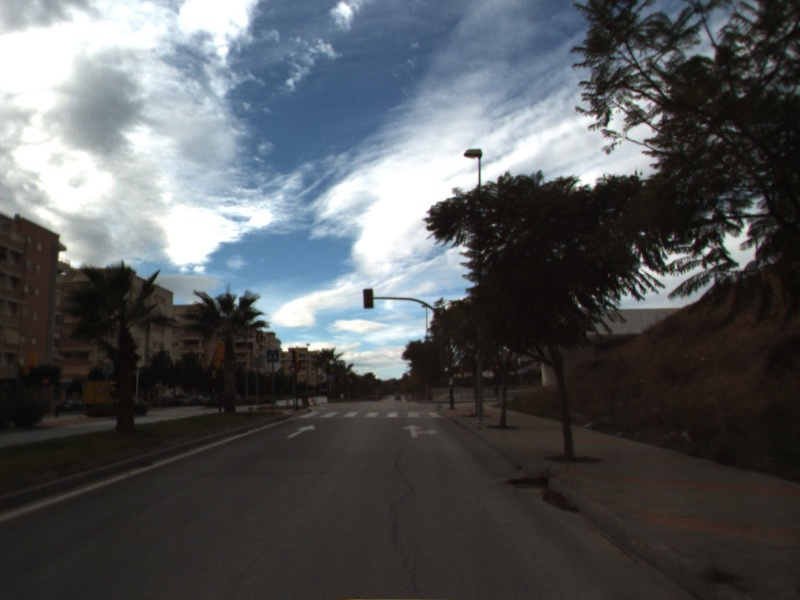STRAIGHT: (284, 423, 318, 440)
STRAIGHT_RIGHT: (401, 422, 441, 439)
